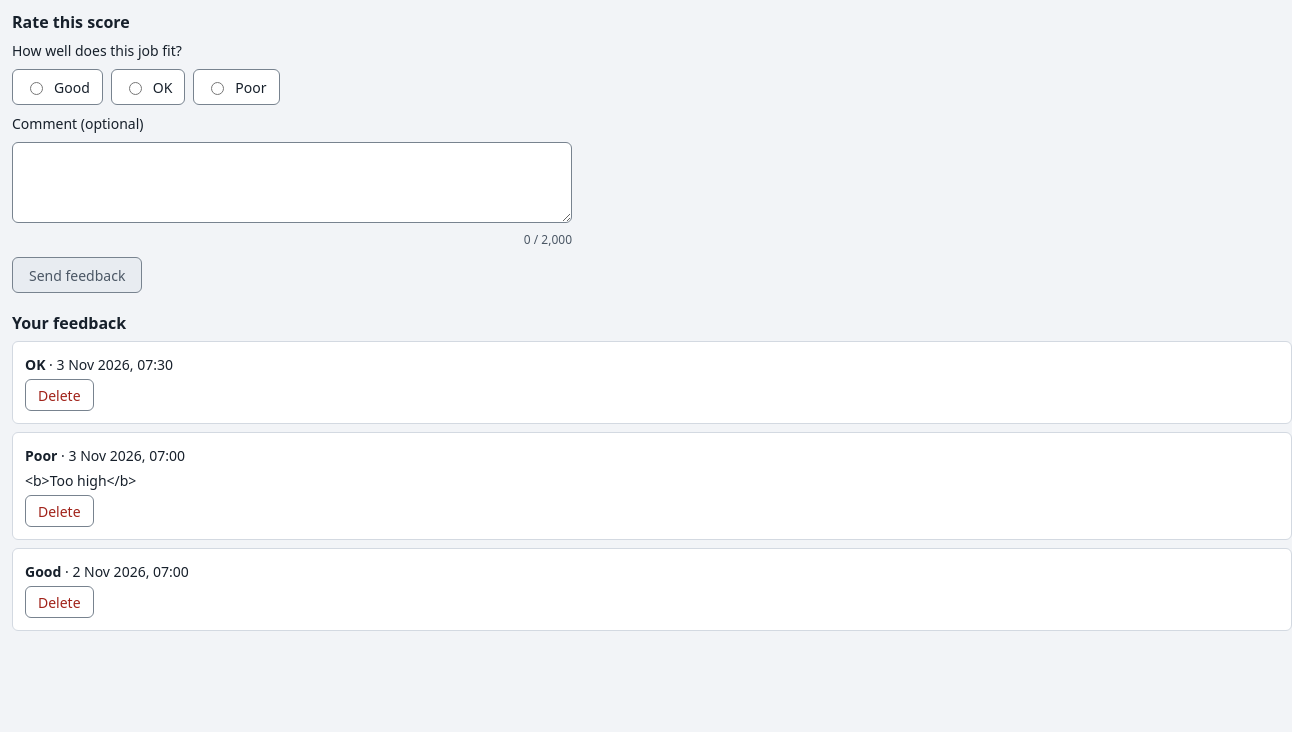
Test: FeedbackTab › after a Delete, focus is on the next item's Delete, else the previous one's, else the list heading
The width and height of the screenshot is (1292, 732).
the middle one (78): the next one (77) takes focus
Click the button "Delete" below "3 Nov 2026, 07:00" at {"x": 59, "y": 511}, box [25, 495, 94, 527]
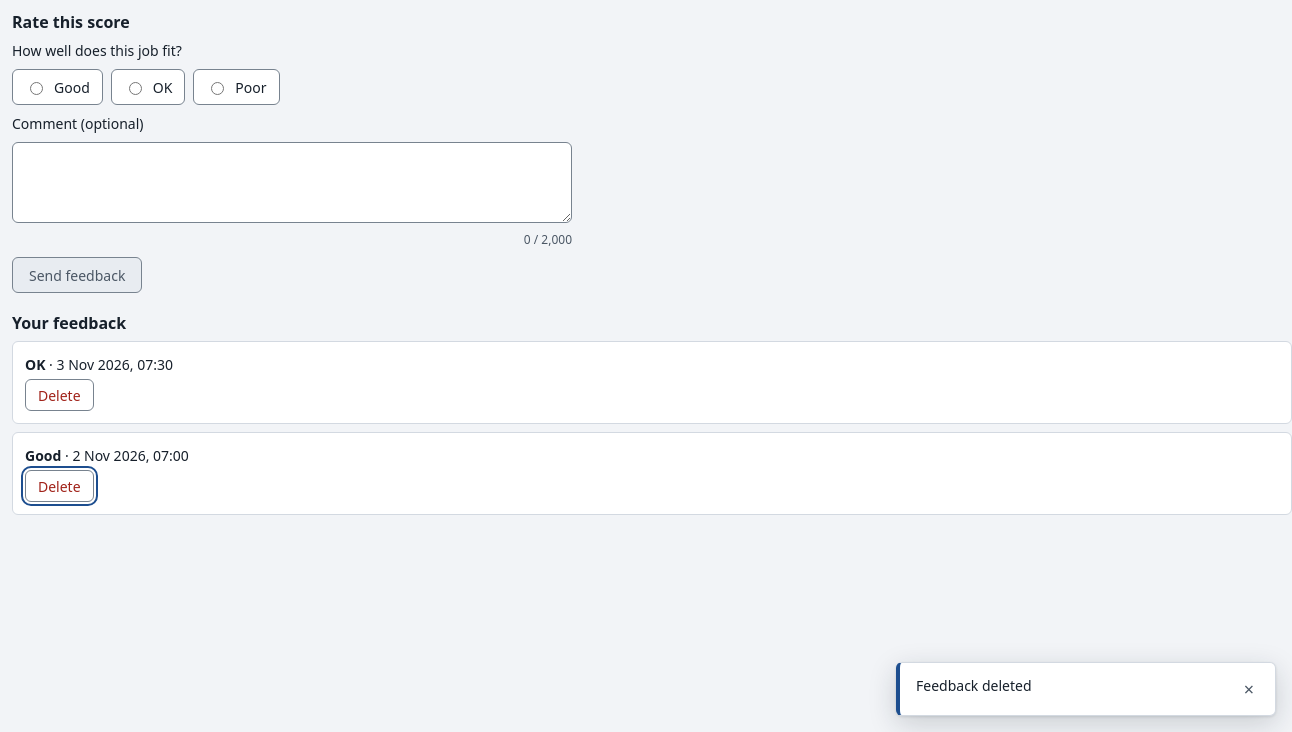
Expected: the number of buttons "Delete" is 2
Click the button "Delete" below "2 Nov 2026, 07:00" at {"x": 59, "y": 486}, box [25, 470, 94, 502]
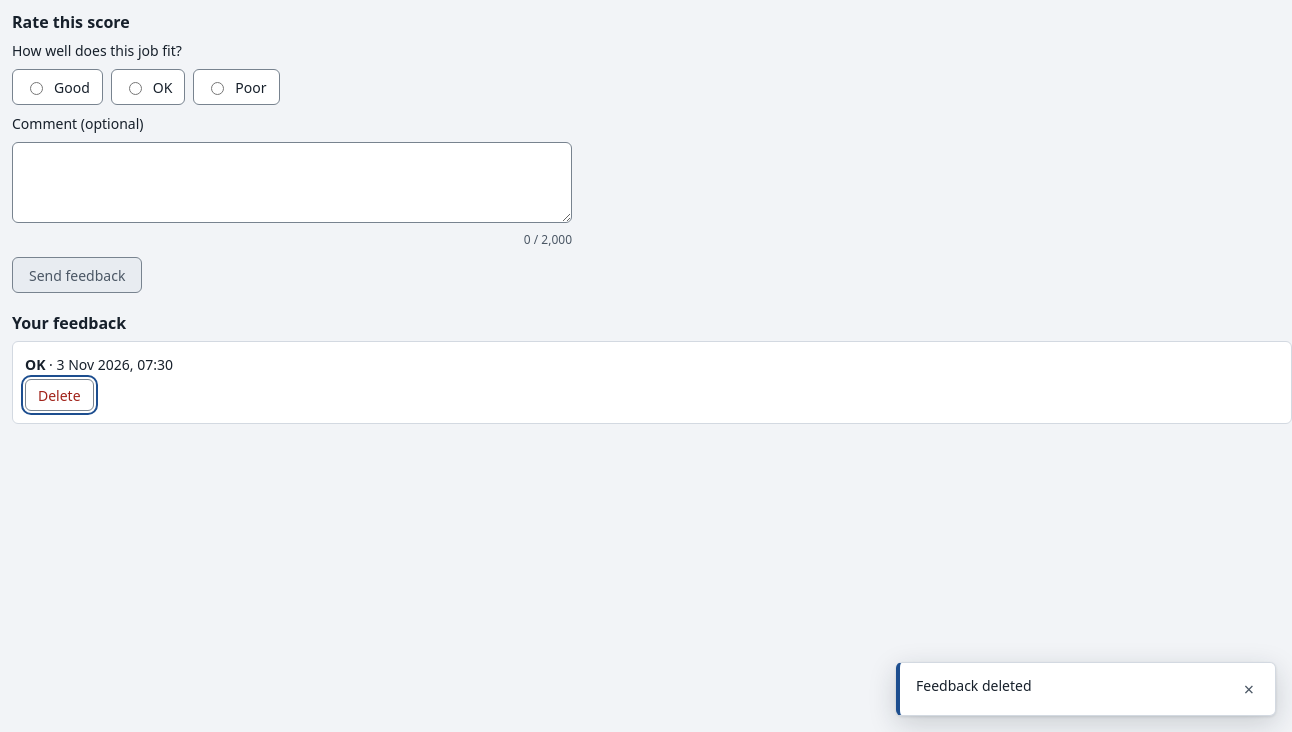
the only one: the list's heading
Click the button "Delete" at {"x": 59, "y": 395}, box [25, 379, 94, 411]
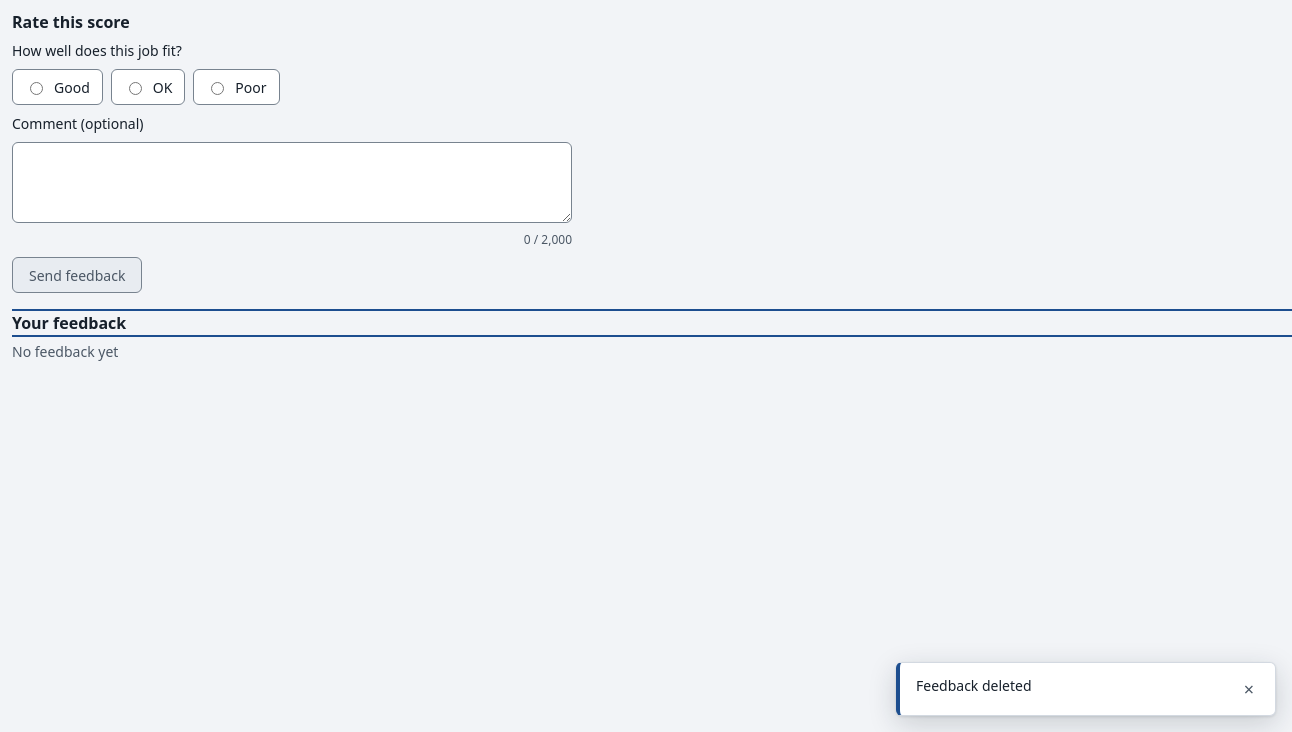
Expected: the text "No feedback yet" is shown, [12, 342, 118, 361]
